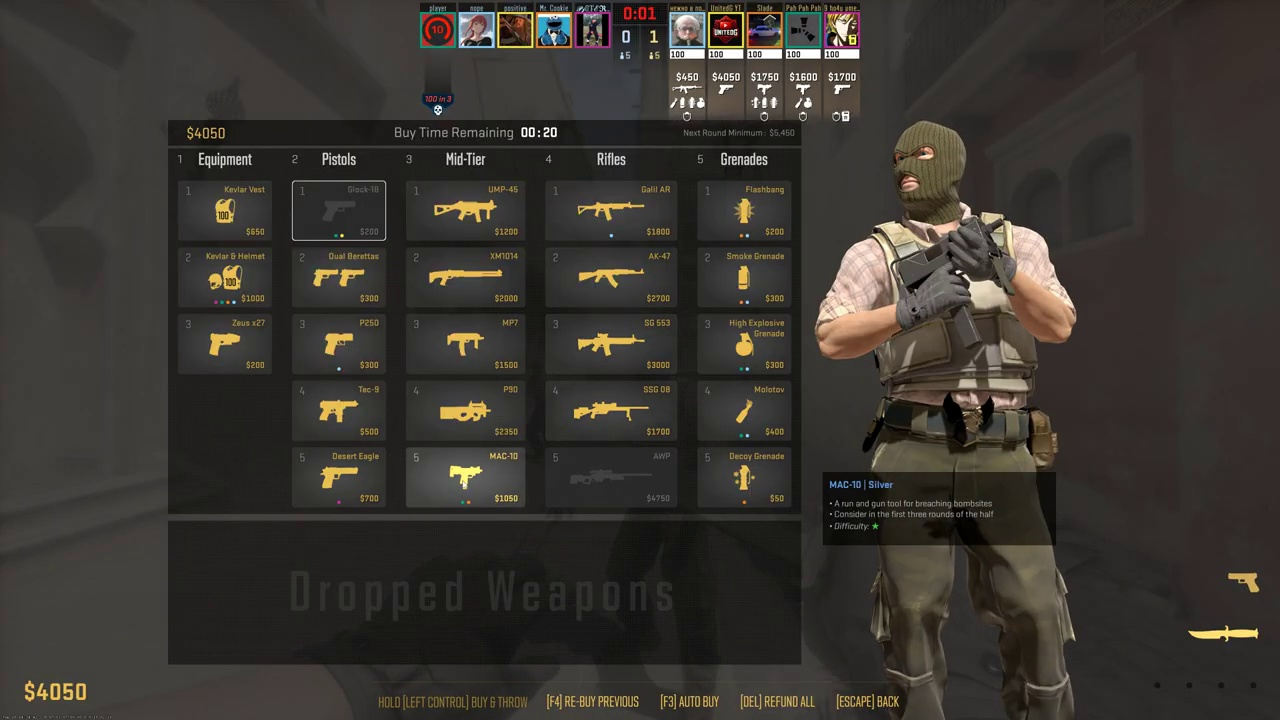Terrorist: (849, 120, 1075, 720)
